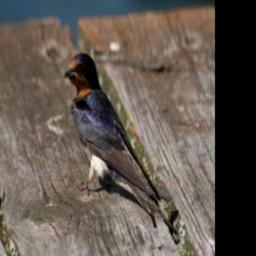Swallow: (63, 50, 179, 237)
